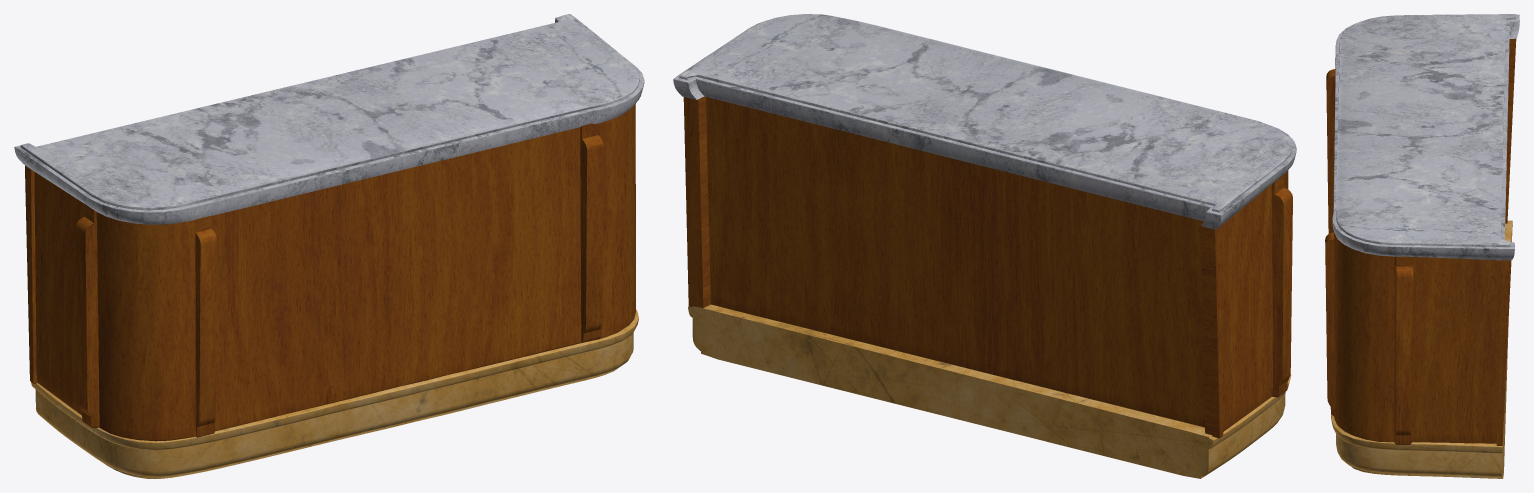
3 renders of one model, left to right at view 1: azimuth 30°, elevation 25°; view 2: azimuth 150°, elevation 25°; view 3: azimuth 270°, elevation 25°, orthographic. The views are drawn at different scales.
Visible parts, largest first — view 1: Pult_Baked_0, Pultdeck_Baked_2, Pultabschluss_Baked_1; view 2: Pult_Baked_0, Pultdeck_Baked_2, Pultabschluss_Baked_1; view 3: Pultdeck_Baked_2, Pult_Baked_0, Pultabschluss_Baked_1.
Part boxes in pixels (box(x1,y1,x2,y2)): Pult_Baked_0: box(25, 103, 635, 441); Pultdeck_Baked_2: box(14, 14, 644, 224); Pultabschluss_Baked_1: box(31, 309, 638, 478); Pult_Baked_0: box(683, 96, 1292, 438); Pultdeck_Baked_2: box(673, 14, 1296, 229); Pultabschluss_Baked_1: box(688, 304, 1291, 478); Pultdeck_Baked_2: box(1332, 14, 1519, 260); Pult_Baked_0: box(1325, 38, 1516, 445); Pultabschluss_Baked_1: box(1331, 220, 1512, 478).
Size of the model in its own units: 2.09 by 1.01 by 0.7324.
3 materials, 3 textured.
